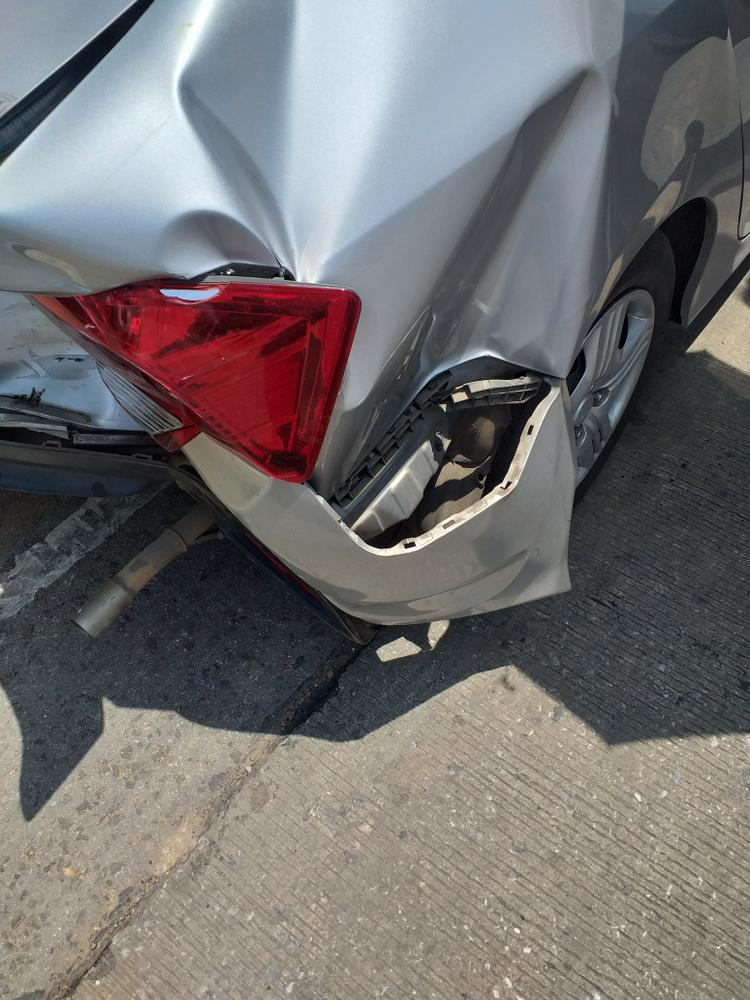dent: (0, 0, 391, 426), (351, 68, 610, 475)
lamp broken: (31, 275, 363, 485)
